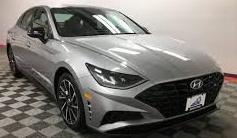Cars: (8, 7, 224, 133)
